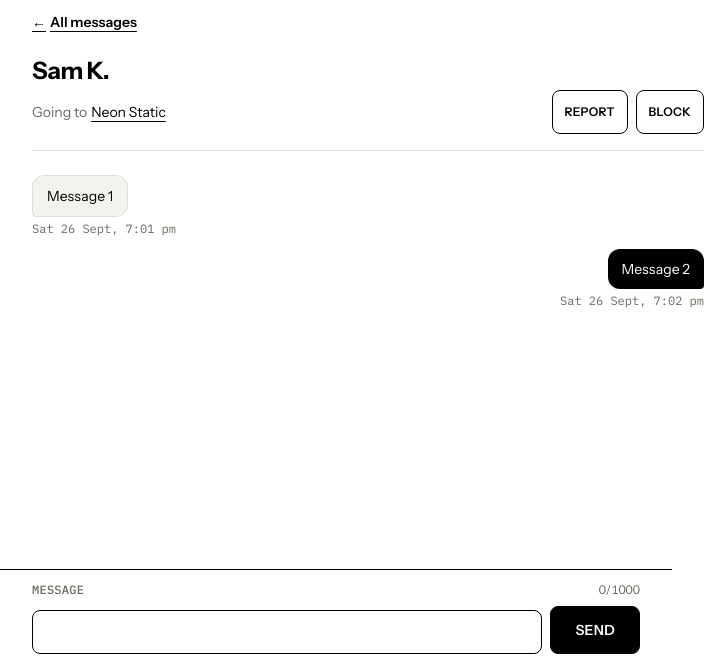
Thread — sending › 409 (still waiting for a reply): says so and disables the composer
Type "One more thing" into the text box labelled "Message".
click(287, 632); type("One more thing")  # box [32,610,542,654]
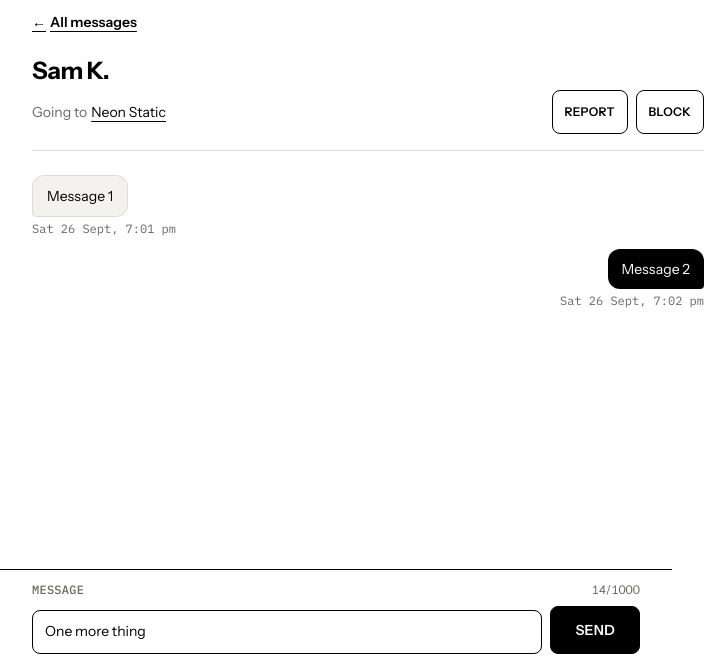
Click the button "Send".
click(595, 630)  # box [550,606,640,654]
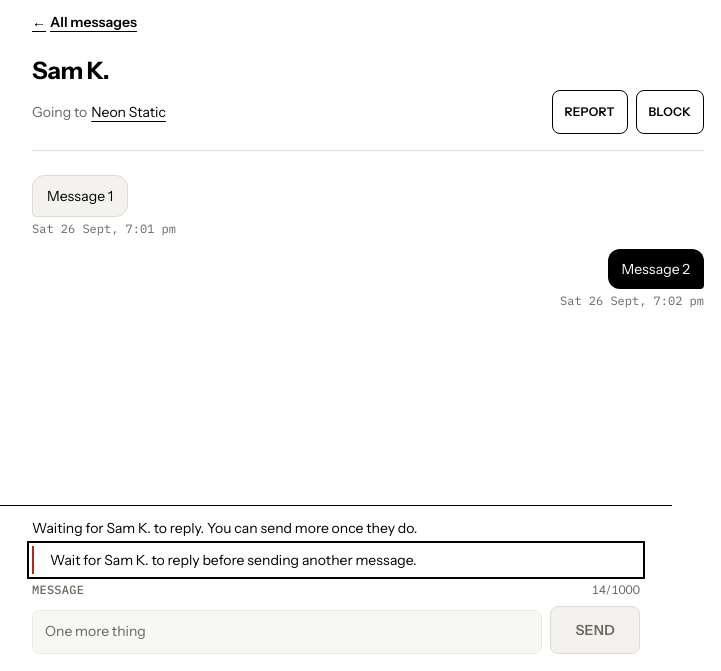
expect the text "Wait for Sam K. to reply before sending another message." is shown: met, box [32,546,640,574]
expect the text box labelled "Message" is disabled: met, box [32,610,542,654]
